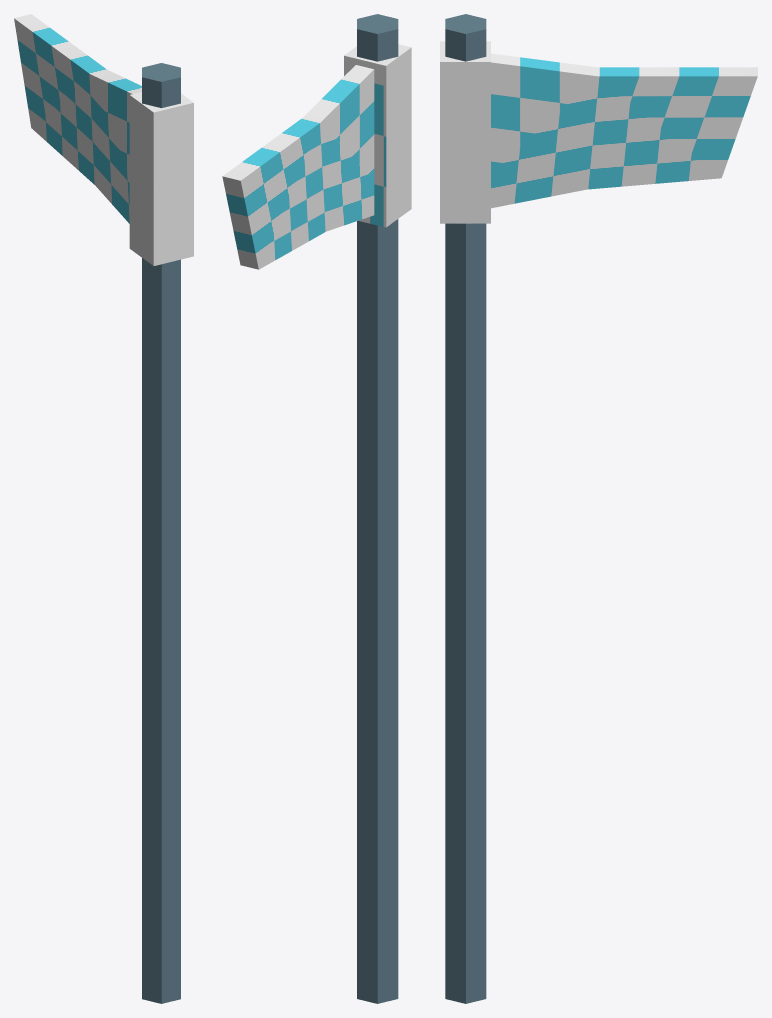
The model's file is Flag.fbx.
3 views of the same model, side by side, from view 1: azimuth 30°, elevation 25°; view 2: azimuth 150°, elevation 25°; view 3: azimuth 270°, elevation 25° (orthographic). The views are drawn at different scales.
Visible parts, largest first — view 1: Flag; view 2: Flag; view 3: Flag.
Part boxes in pixels (<box>): Flag: <box>14,14,193,1003</box>; Flag: <box>222,14,411,1003</box>; Flag: <box>440,14,757,1003</box>.
Bounding box in the file's own units: 0.8222 × 18 × 5.35.
2 materials, 1 textured.
